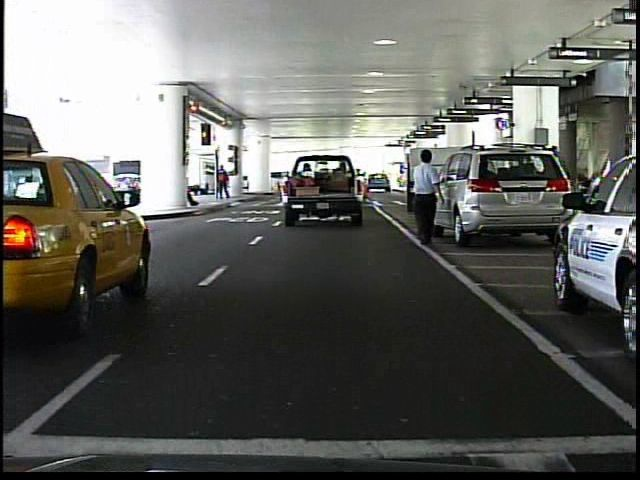person: (403, 145, 449, 246), (215, 163, 235, 203)
